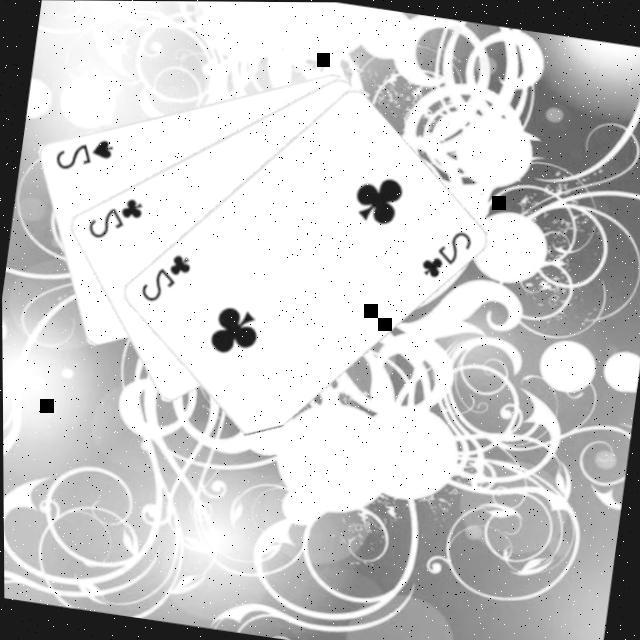2C: (414, 219, 476, 284), (133, 244, 194, 308), (81, 186, 146, 245)
2S: (49, 128, 117, 178)
